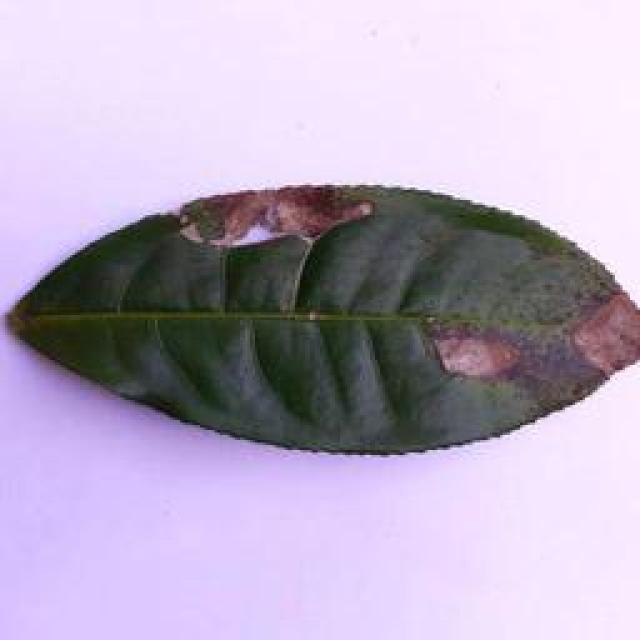Gray Blight: (6, 176, 638, 460)
